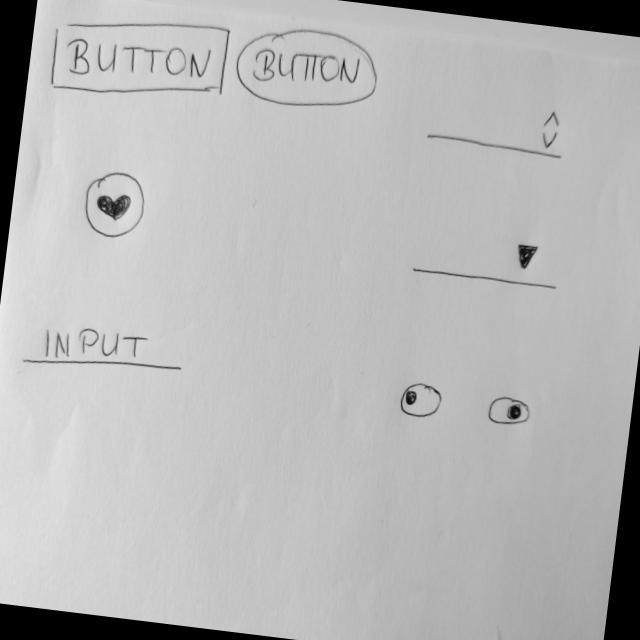button: (45, 5, 231, 111), (230, 20, 382, 119)
icon-button: (79, 164, 150, 242)
input: (20, 314, 186, 384)
number-input: (425, 92, 569, 160)
select: (409, 227, 564, 294)
toggle: (397, 378, 444, 422), (486, 393, 532, 429)
